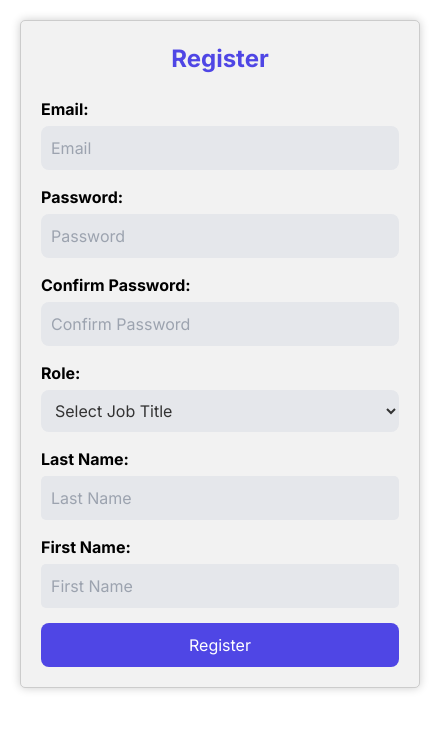
Scenario: RegisterPage › handles registration form submission
The image size is (441, 733).
Type "test@myseneca.ca" into the field labelled "Email:" at {"x": 220, "y": 148}, box left=41, top=126, right=399, bottom=170
Type "Test@123" into the password field labelled "Password:" at {"x": 220, "y": 236}, box left=41, top=214, right=399, bottom=258
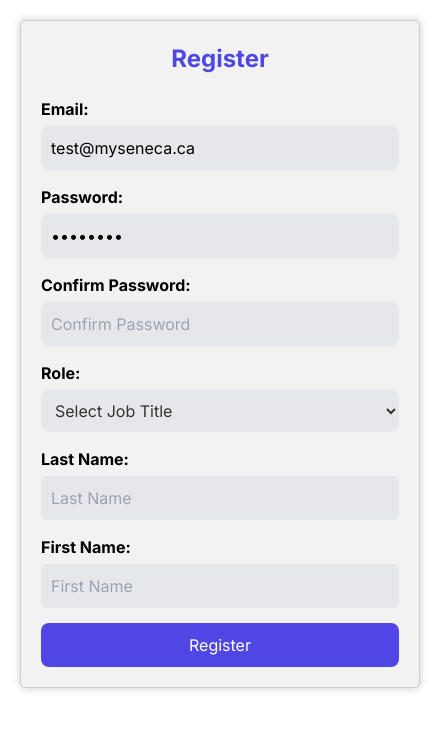
Type "Test@123" into the password field labelled "Confirm Password:" at {"x": 220, "y": 324}, box left=41, top=302, right=399, bottom=346
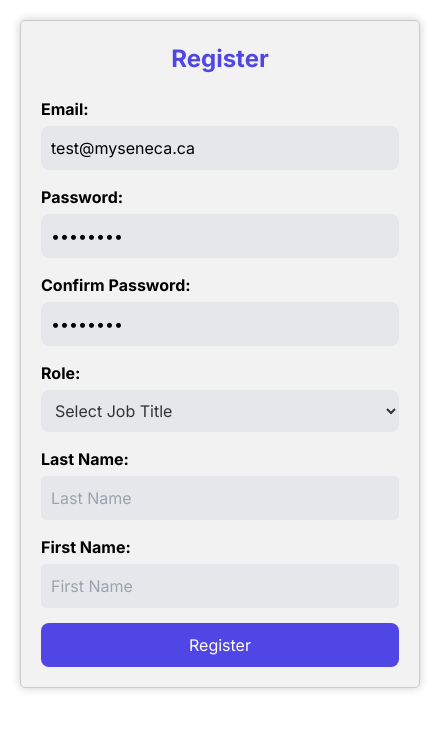
Select "Student" in the dropdown labelled "Role:" at {"x": 220, "y": 411}, box left=41, top=390, right=399, bottom=432
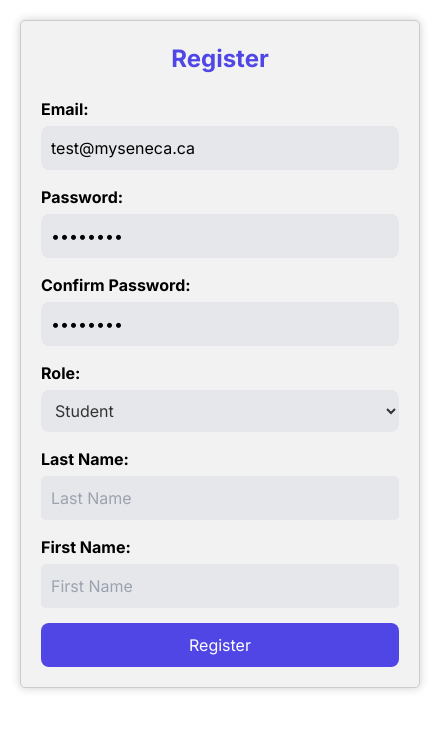
Type "Doe" into the field labelled "Last Name:" at {"x": 220, "y": 498}, box left=41, top=476, right=399, bottom=520
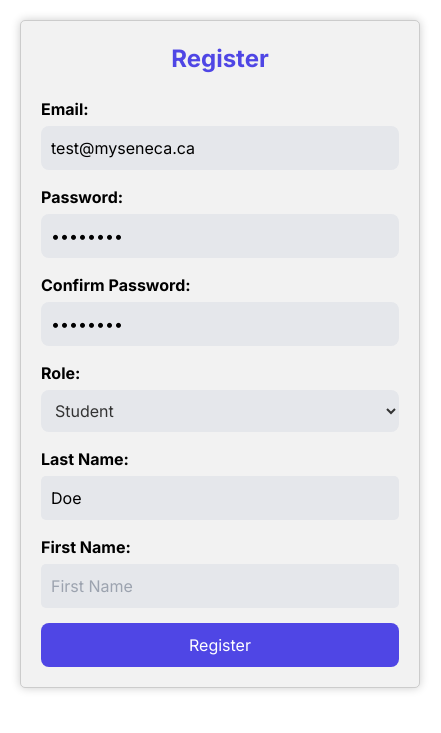
Type "John" into the field labelled "First Name:" at {"x": 220, "y": 586}, box left=41, top=564, right=399, bottom=608
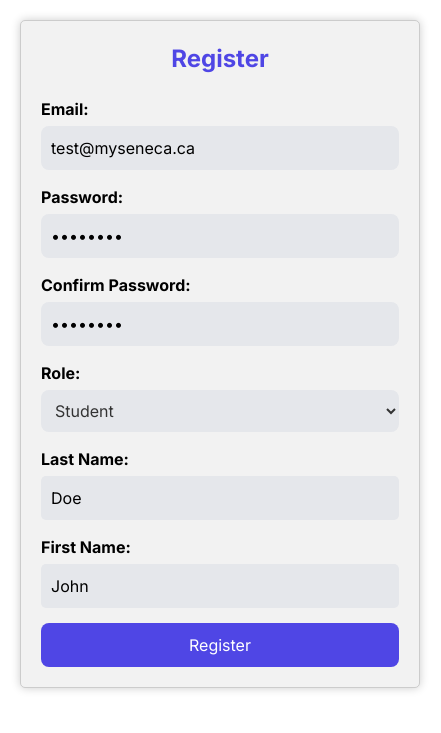
Click the button with test id "register-btn" at {"x": 220, "y": 645}, box left=41, top=623, right=399, bottom=667
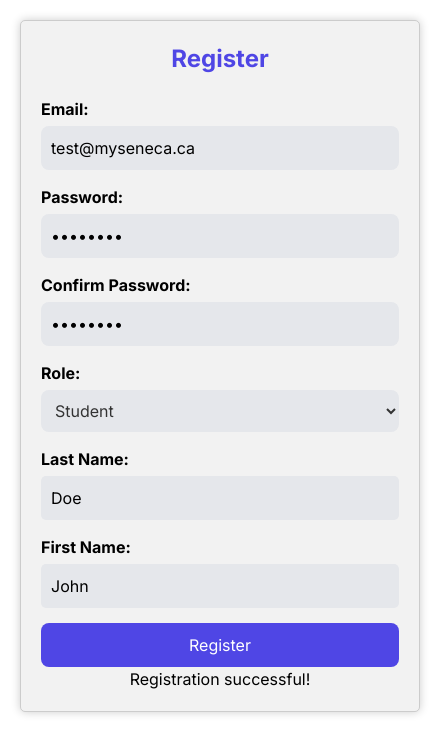
Result: the text "Registration successful!" is shown at left=130, top=669, right=310, bottom=689
